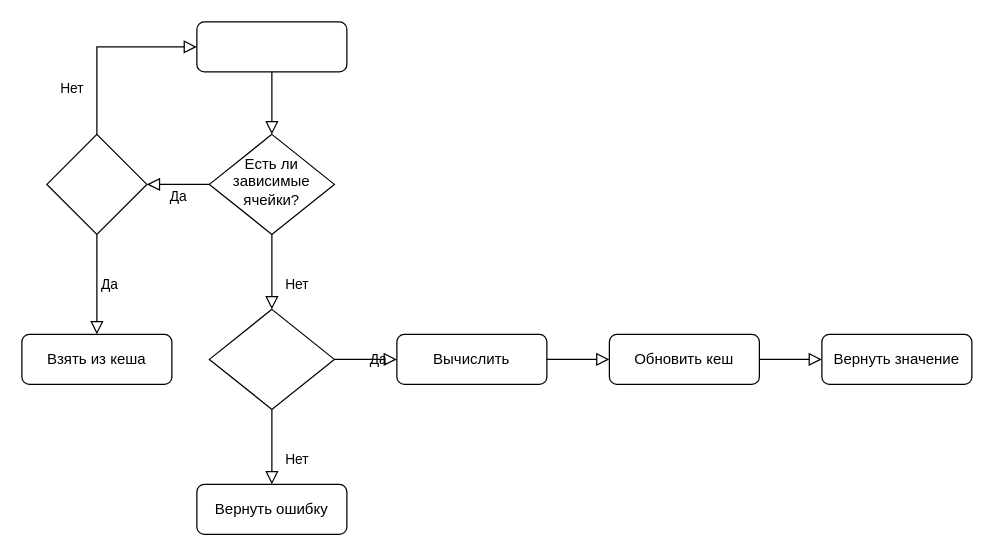
Some shapes in this 994 by 556 pixel diagram are drawn without their labels. The shapes that lost their labels are listed below. From the top down, each one's centre as x and y in pixels, then its label:
At point 271,46: "Вычислить формулу".
At point 96,183: "Есть ли в кеше?".
At point 271,358: "Формула валидна?".
